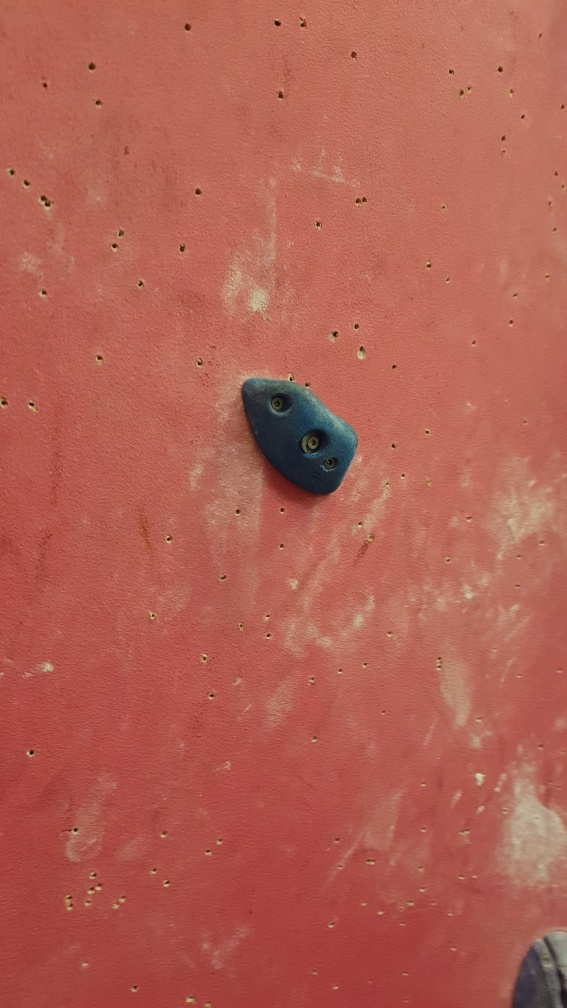Crimp: (240, 374, 360, 497)
